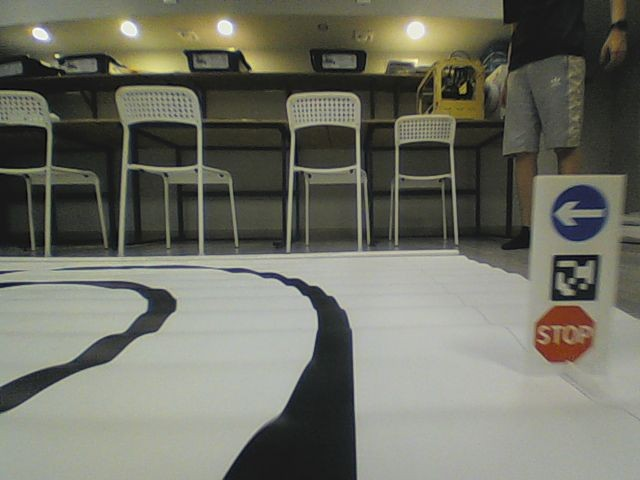Stop: (531, 304, 597, 366)
